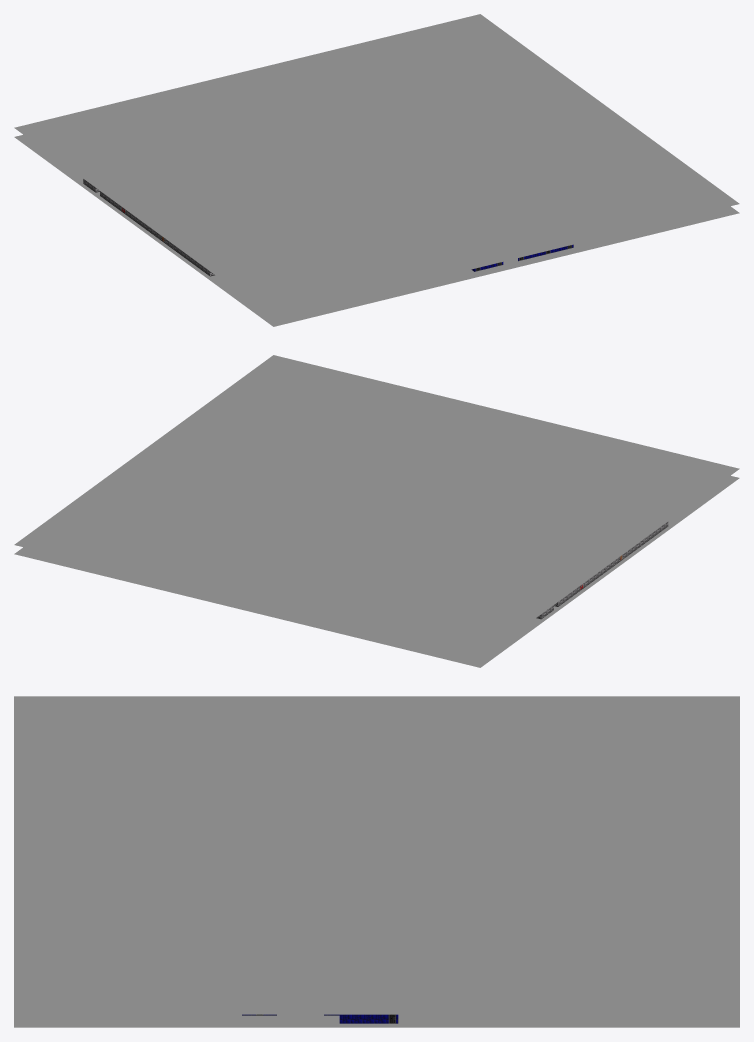
The model's file is wolf.FBX.
3 views of the same model, one above another, from view 1: azimuth 30°, elevation 25°; view 2: azimuth 150°, elevation 25°; view 3: azimuth 270°, elevation 25° (orthographic). The views are drawn at different scales.
Visible parts, largest first — view 1: wolf; view 2: wolf; view 3: wolf.
Boxes of the visible parts, x1,y1,x2,y2 form: wolf: (14,14,739,326); wolf: (14,355,739,667); wolf: (14,696,739,1027).
Bounding box in the file's own units: 9556 × 9209 × 180.
